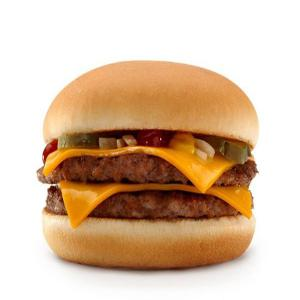cheeseburger: (33, 55, 265, 268)
